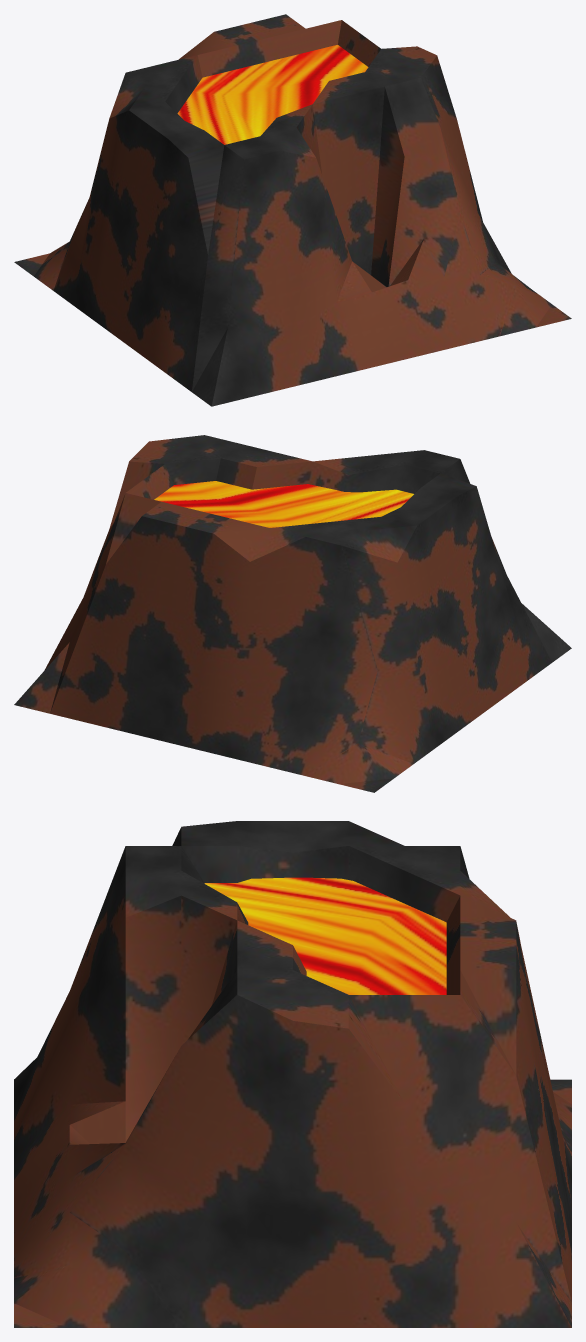
Rendered from bánya lavadomb.fbx.
The picture shows the model from 3 angles, top to bottom: view 1: azimuth 30°, elevation 25°; view 2: azimuth 150°, elevation 25°; view 3: azimuth 270°, elevation 25°; orthographic projection. The views are drawn at different scales.
Visible parts, largest first — view 1: Disc_1; view 2: Disc_1; view 3: Disc_1.
Boxes of the visible parts, left/top/right/bottom form: Disc_1: left=14, top=14, right=571, bottom=406; Disc_1: left=14, top=435, right=571, bottom=792; Disc_1: left=14, top=821, right=571, bottom=1327.
Size of the model in its own units: 99.29 by 52.85 by 94.28.
1 material, 1 textured.
